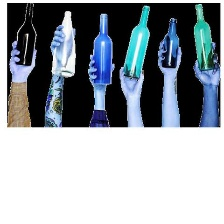bottle: (122, 2, 154, 80), (188, 1, 221, 74), (50, 8, 81, 81), (89, 10, 115, 87), (13, 1, 40, 69), (159, 15, 181, 71)
